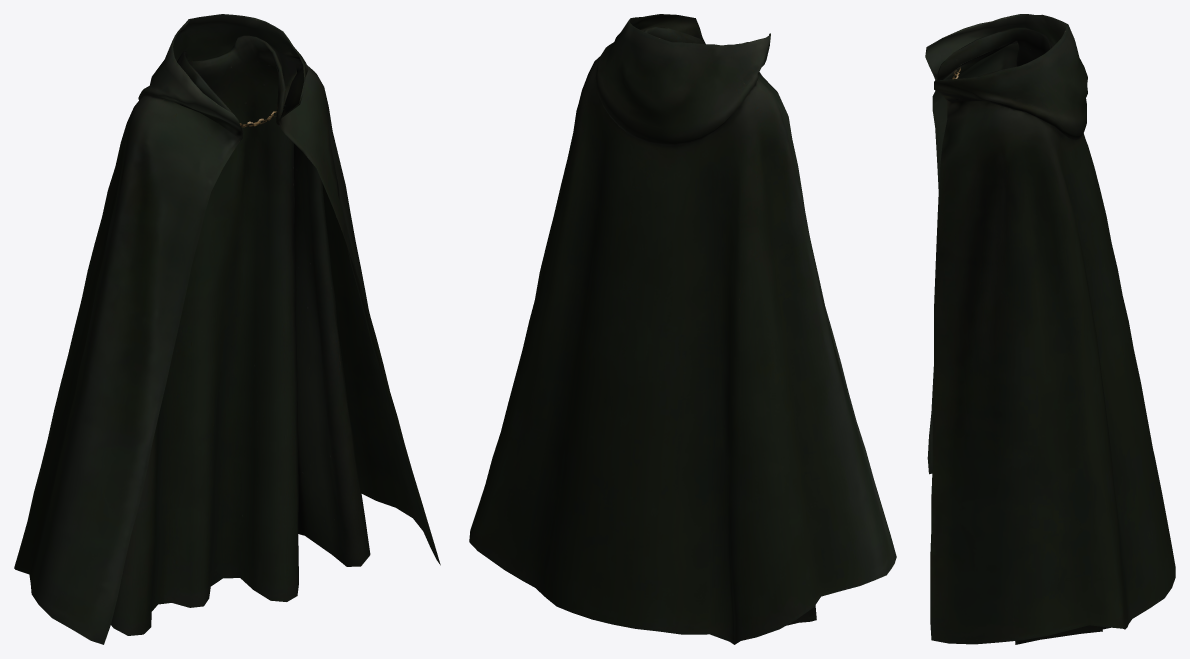
Rendered from ustegmen_pelerin.fbx.
The picture shows the model from 3 angles, left to right: view 1: azimuth 30°, elevation 25°; view 2: azimuth 150°, elevation 25°; view 3: azimuth 270°, elevation 25°; orthographic projection. The views are drawn at different scales.
Parts seen in each view (by area): view 1: tripo_node_9e56a1cc; view 2: tripo_node_9e56a1cc; view 3: tripo_node_9e56a1cc.
Part boxes in pixels (x1=…): tripo_node_9e56a1cc: x1=14, y1=14, x2=440, y2=644; tripo_node_9e56a1cc: x1=469, y1=14, x2=896, y2=644; tripo_node_9e56a1cc: x1=925, y1=14, x2=1175, y2=644.
Size of the model in its own units: 0.6791 by 1 by 0.3973.
Materials: 1 (1 with a texture image).
